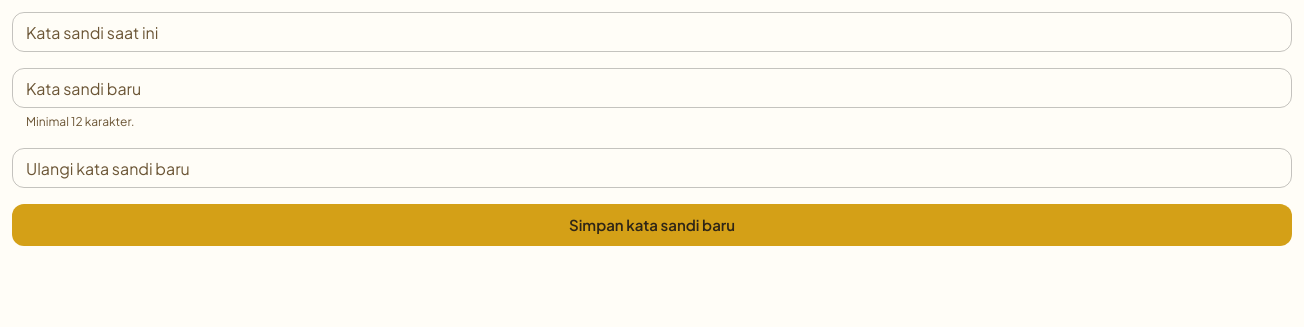
Test: formulir ganti kata sandi › galat tak terduga ditulis dengan pesan umum, bukan dibiarkan kosong
This screenshot has width=1304, height=327.
Type "SementaraAbc234xyz" into the password field labelled "Kata sandi saat ini" at (652, 32), box [12,12,1292,52]
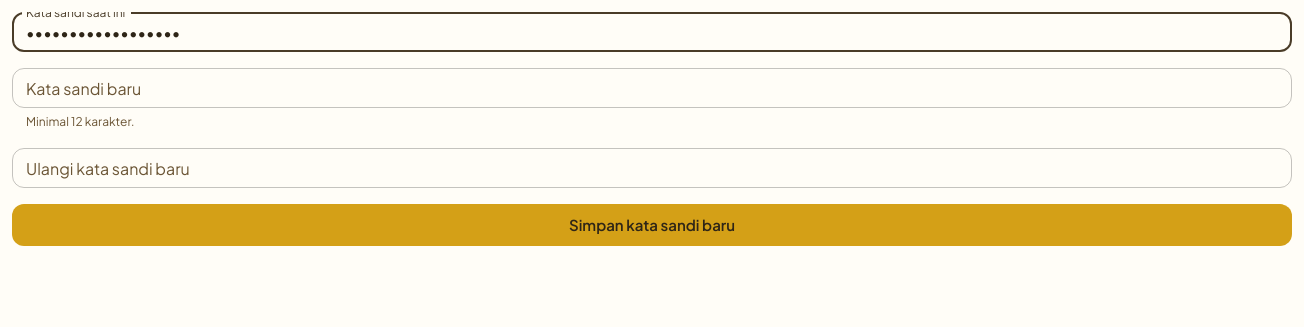
Type "kataSandiBaruPanjang1" into the password field labelled "Kata sandi baru" at (652, 88), box [12,68,1292,108]
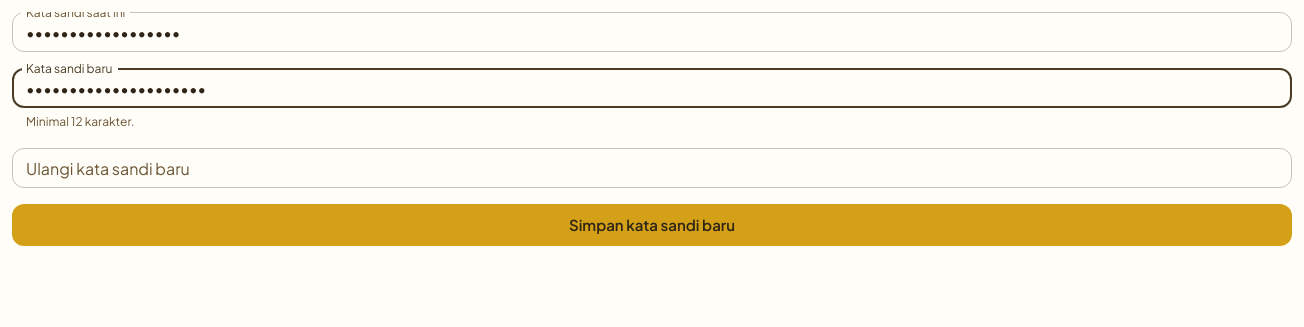
Type "kataSandiBaruPanjang1" into the password field labelled "Ulangi kata sandi baru" at (652, 168), box [12,148,1292,188]
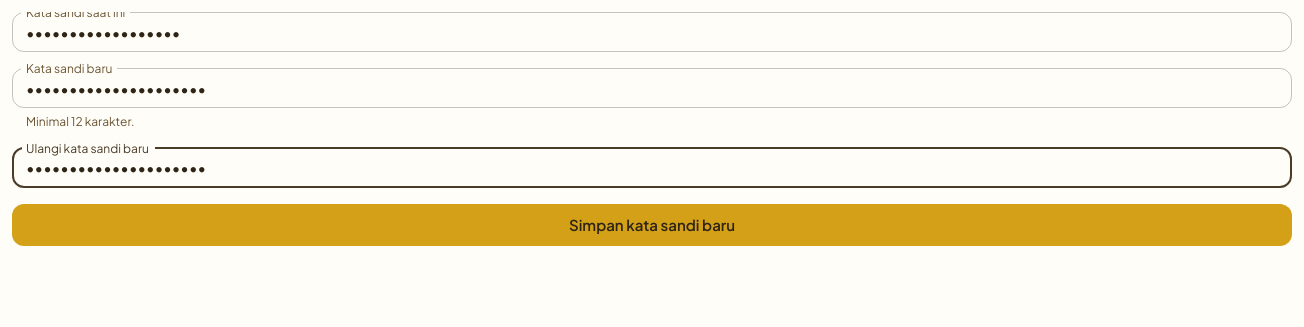
Click the button "Simpan kata sandi baru" at (652, 225), box [12,204,1292,246]
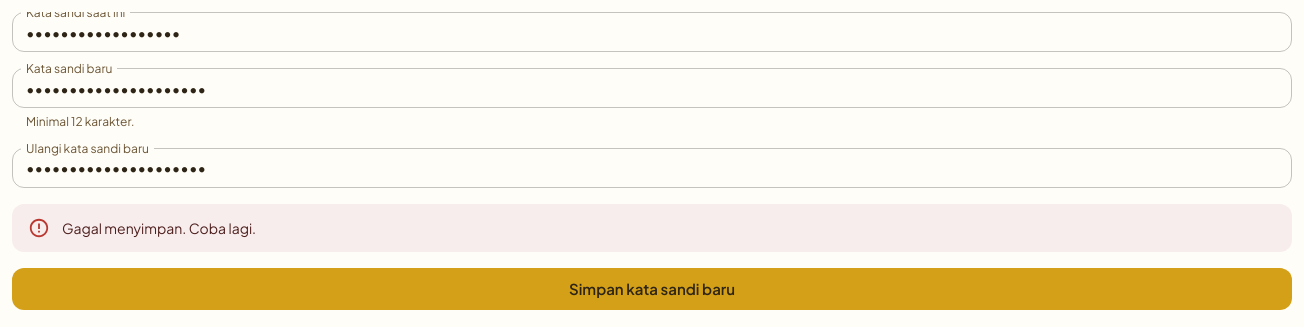
Expected: the message reads "Gagal menyimpan. Coba lagi.", [62,219,256,237]
